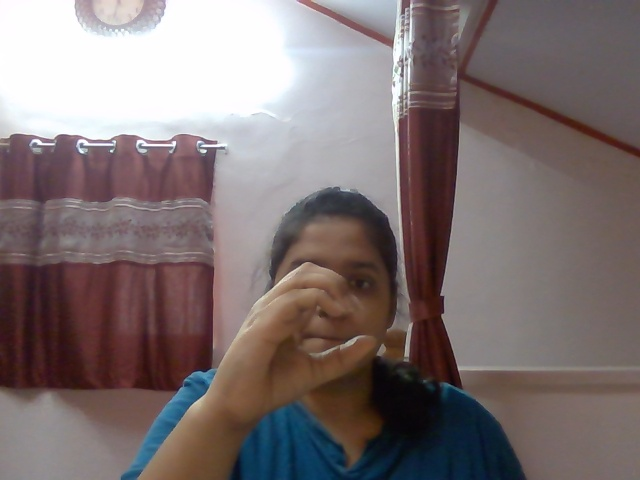c: (225, 264, 395, 405)
